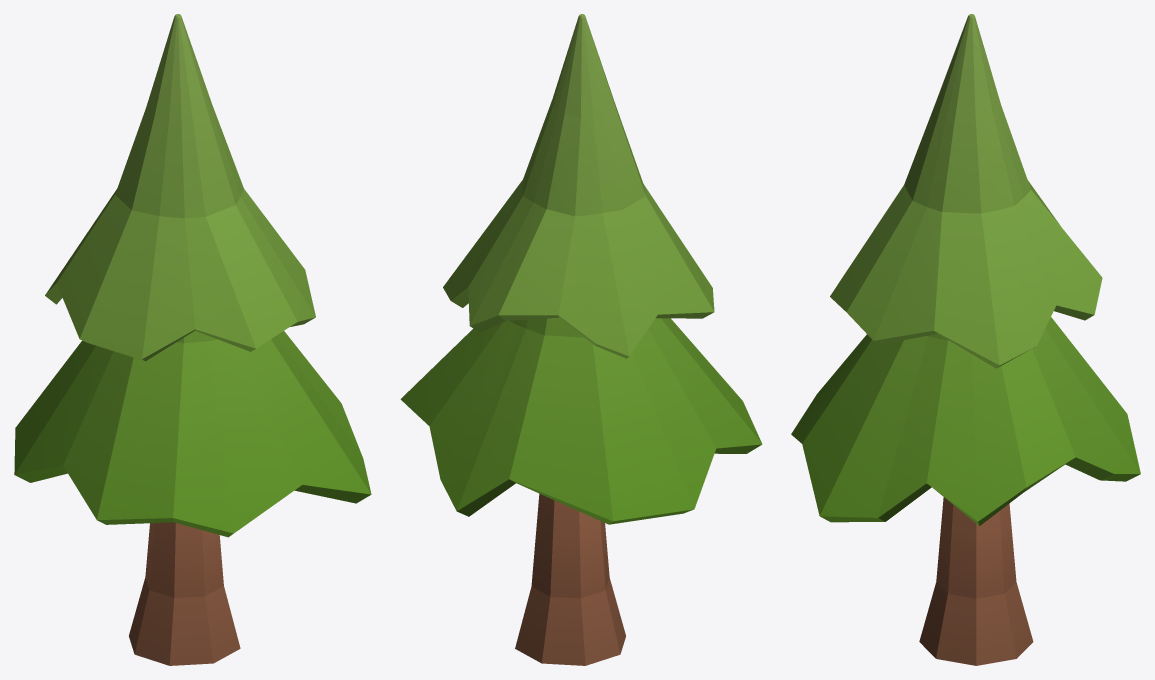
File: fir-tree-small.glb
3 renders of one model, left to right at view 1: azimuth 30°, elevation 25°; view 2: azimuth 150°, elevation 25°; view 3: azimuth 270°, elevation 25°, orthographic.
Parts seen in each view (by area): view 1: fir_tree_small; view 2: fir_tree_small; view 3: fir_tree_small.
Boxes of the visible parts, x1,y1,x2,y2 form: fir_tree_small: (14, 14, 371, 665); fir_tree_small: (400, 14, 762, 665); fir_tree_small: (791, 14, 1140, 665).
Bounding box in the file's own units: 2.01 × 3.97 × 2.02.
1 material, 1 textured.
